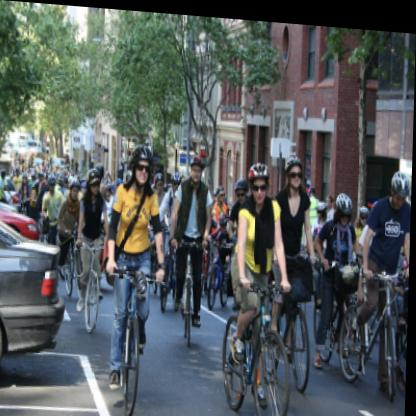With Helmet: (243, 154, 274, 206), (129, 136, 156, 191), (284, 149, 309, 188), (333, 182, 356, 224), (83, 163, 107, 197), (191, 145, 208, 186)
